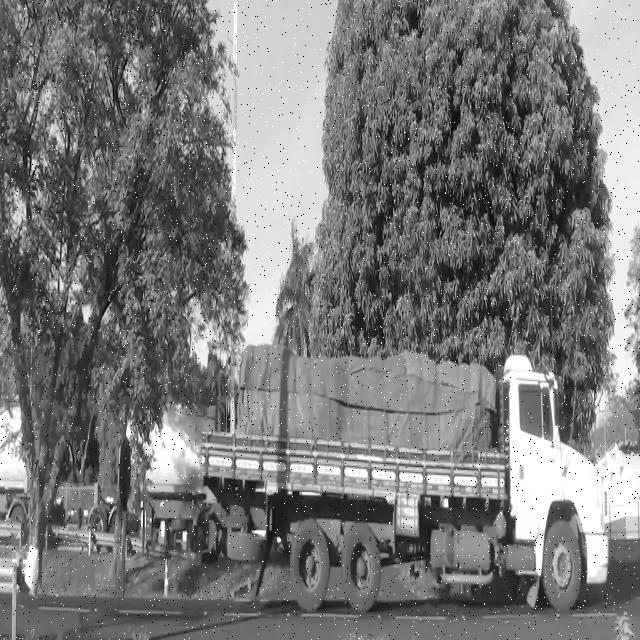-axle: (290, 520, 331, 608), (543, 518, 581, 608), (342, 523, 380, 612)
